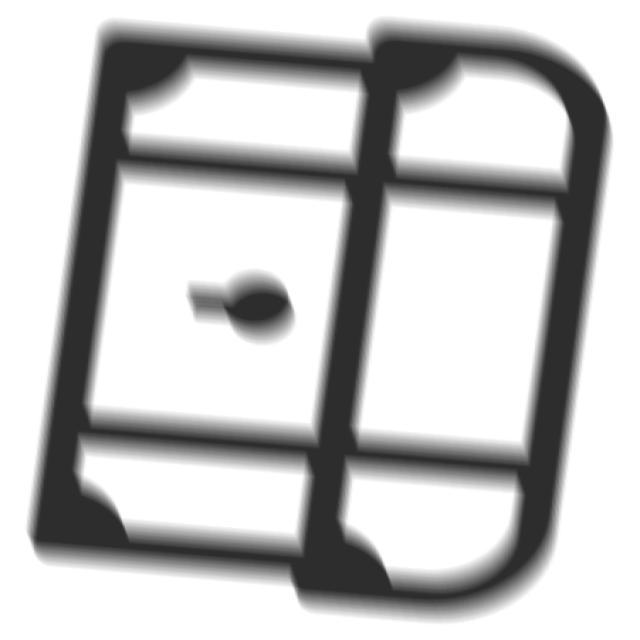treasure_box: (18, 11, 624, 630)
